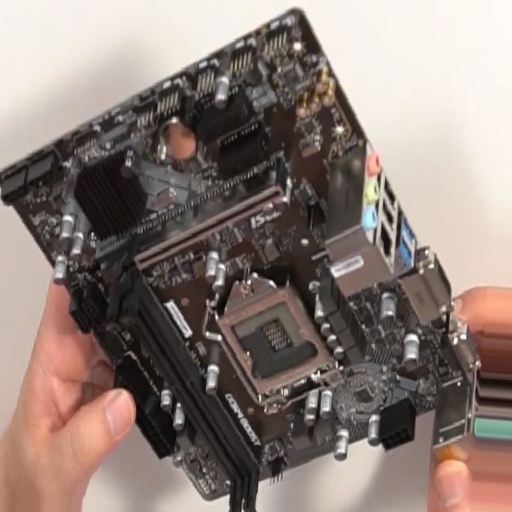CPU: (218, 272, 336, 406)
GPU: (116, 160, 288, 284)
MOTHERBOARD: (5, 13, 474, 499)
RAM: (106, 269, 258, 508)
